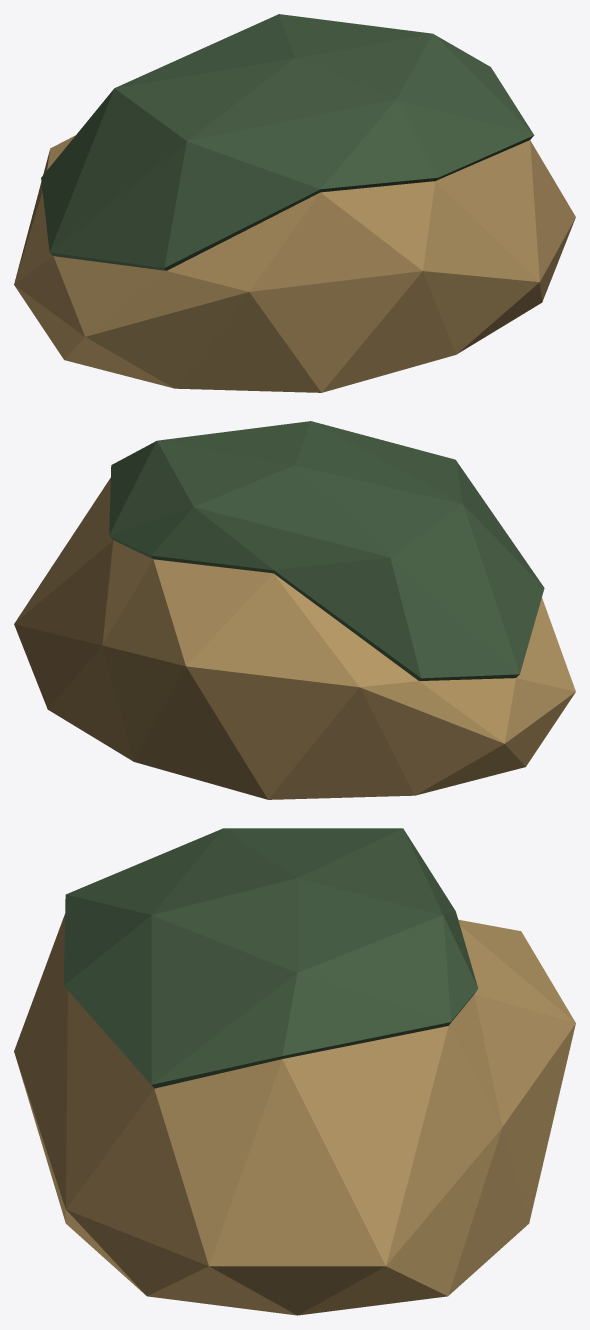
Rendered from MossStone2.fbx.
3 renders of one model, top to bottom at view 1: azimuth 30°, elevation 25°; view 2: azimuth 150°, elevation 25°; view 3: azimuth 270°, elevation 25°, orthographic. The views are drawn at different scales.
Parts seen in each view (by area): view 1: MossStone2; view 2: MossStone2; view 3: MossStone2.
Boxes of the visible parts, x1,y1,x2,y2 form: MossStone2: (14, 14, 575, 392); MossStone2: (14, 421, 575, 799); MossStone2: (14, 828, 575, 1315).
Bounding box in the file's own units: 492 × 235 × 392.
